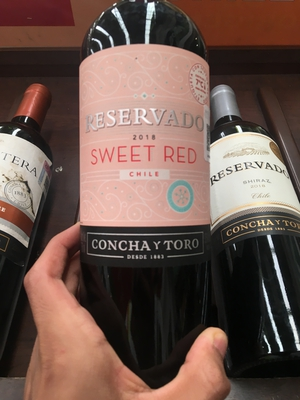reservado sweet red: (74, 12, 227, 369)
